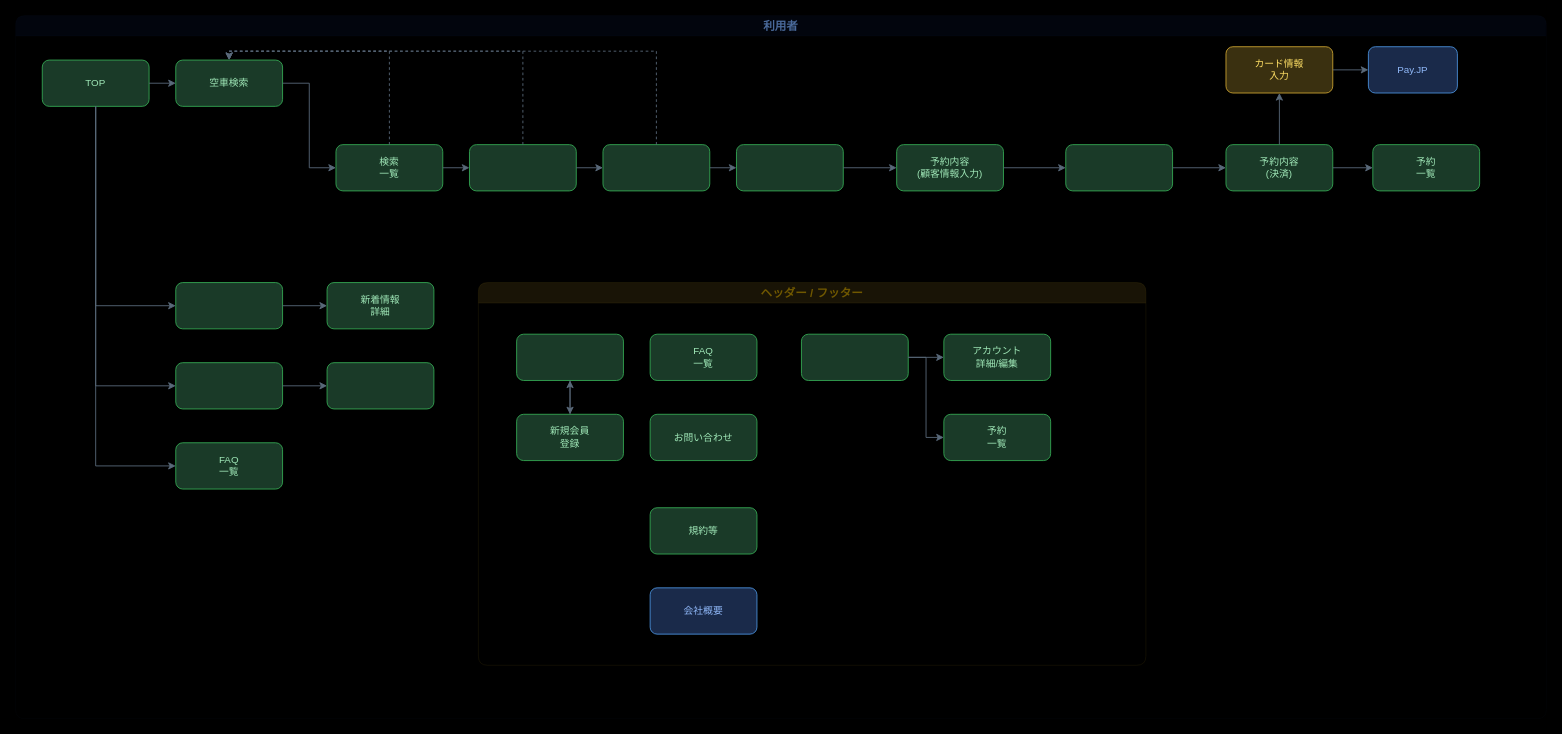
Image size: 1562x734. Some labels were removed from this diagram. The centre of each missing label's shape, as x and y in pixels:
お知らせ 一覧: (229,385)
お知らせ 詳細: (380,385)
マイページ: (854,356)
ログイン: (569,356)
予約内容 (予約内容確認): (1119,167)
予約内容 (空車検索): (789,167)
店舗 詳細: (522,167)
新着情報 一覧: (229,305)
自転車 詳細: (656,167)
